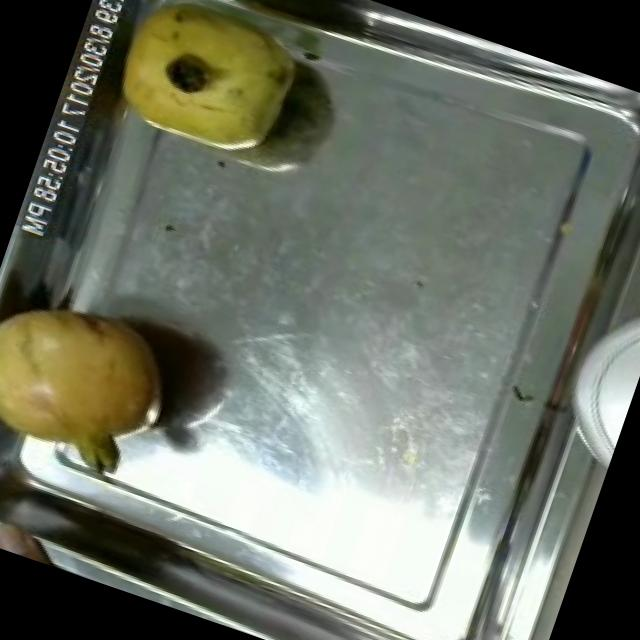fruit: (0, 271, 193, 496), (93, 0, 323, 179), (0, 507, 83, 573)
